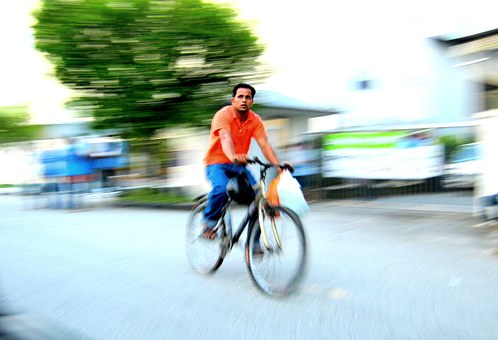bikerider: (178, 72, 323, 300)
